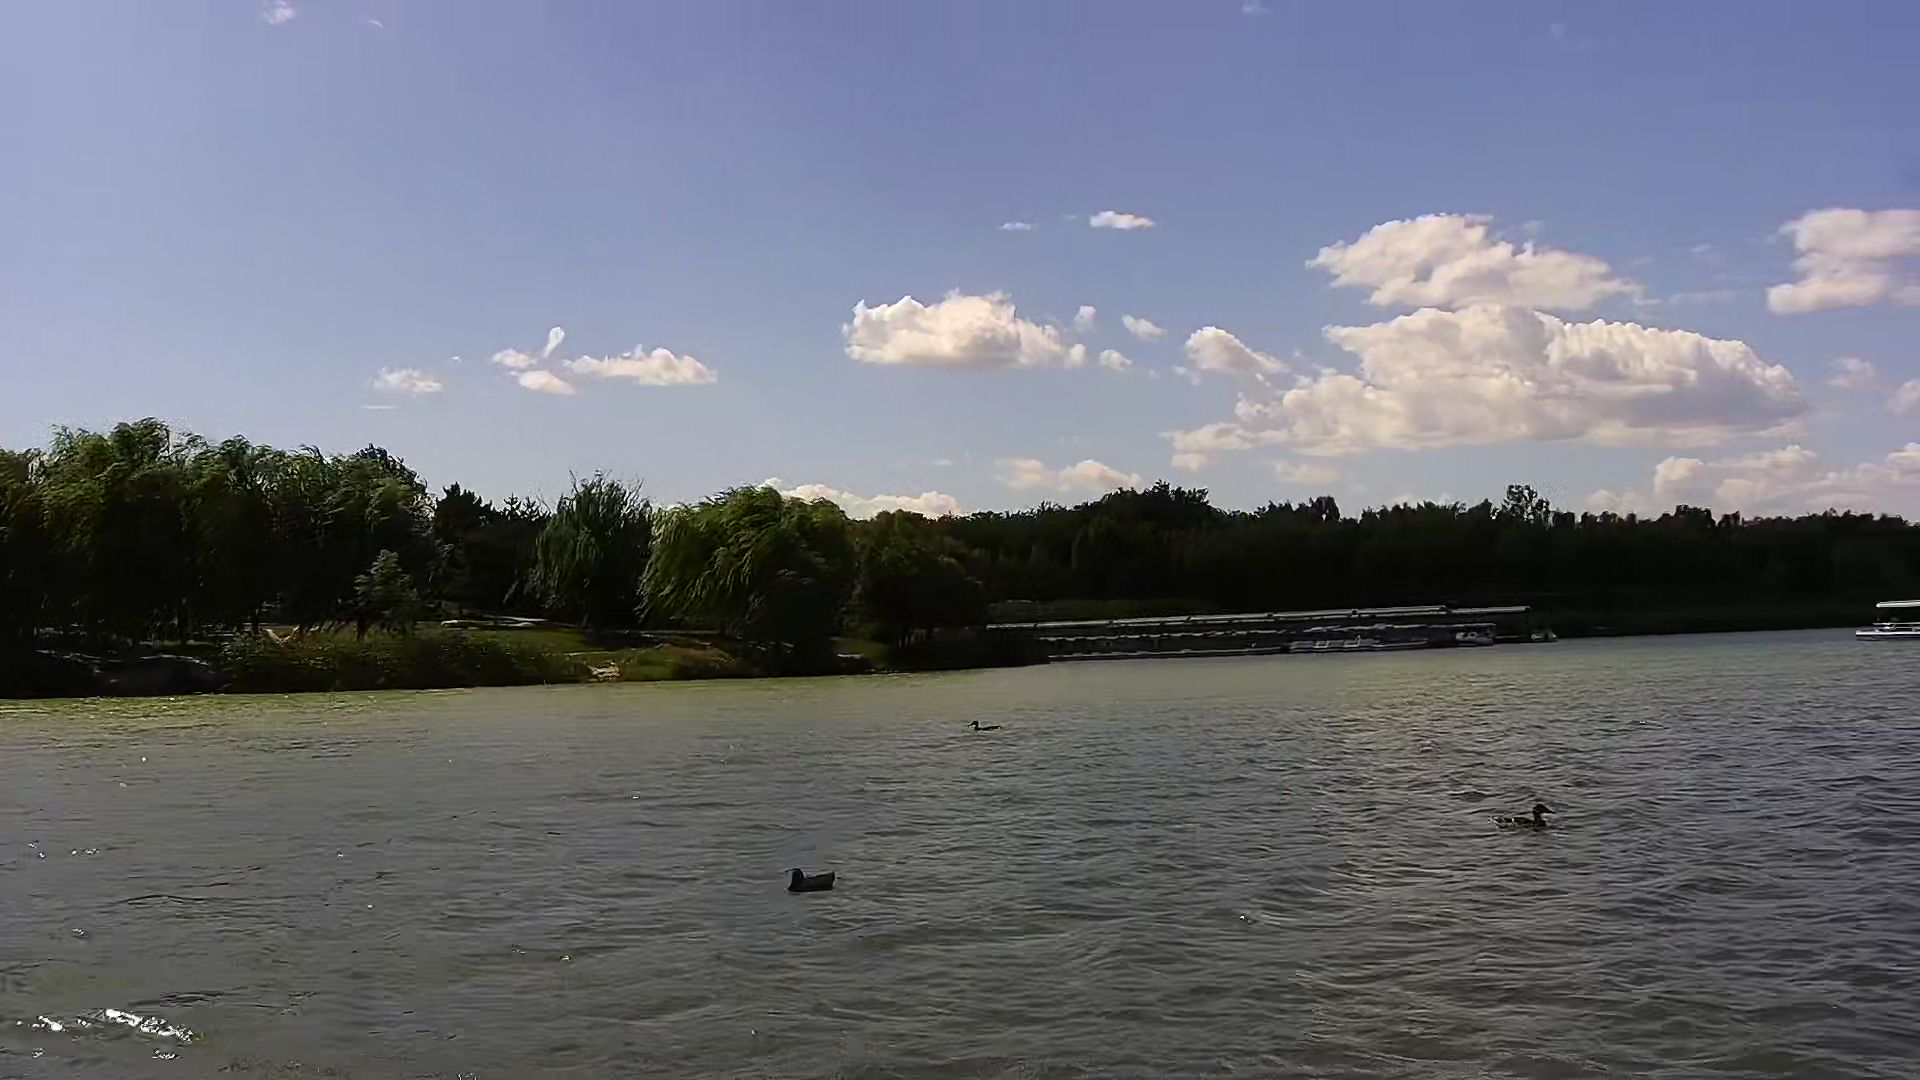animal: (1499, 798, 1552, 833), (789, 861, 843, 894), (967, 715, 1000, 735)
boat: (1855, 597, 1920, 642)
harbor: (1052, 615, 1522, 653)
rock: (585, 665, 622, 682)
